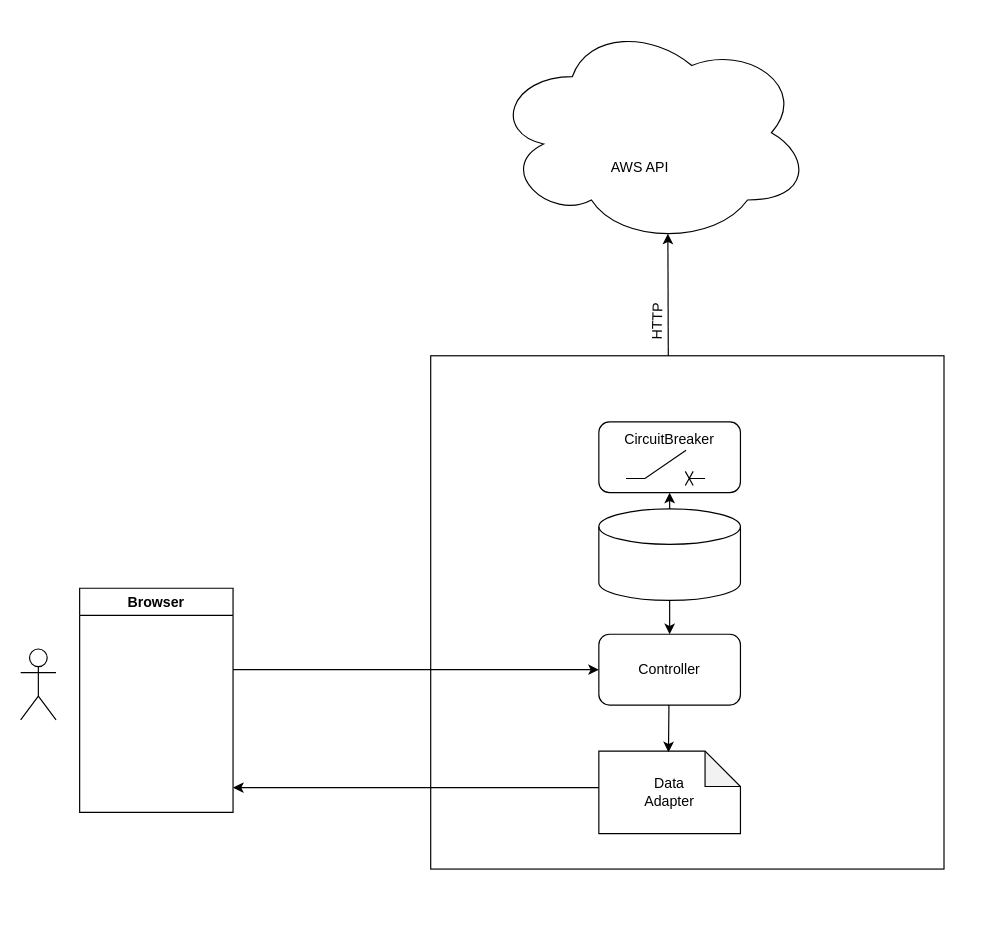
Image size: 1001x926. Some labels were removed from this diagram. Here are the shapes that lost their labels. From the top down, the box of each, then its label:
(598, 508, 740, 600): Caching
(19, 648, 56, 720): User
